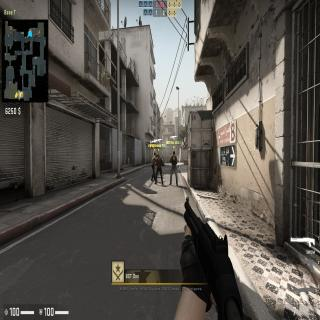T-Head: (157, 153, 160, 158), (173, 151, 175, 156), (154, 152, 156, 156)
